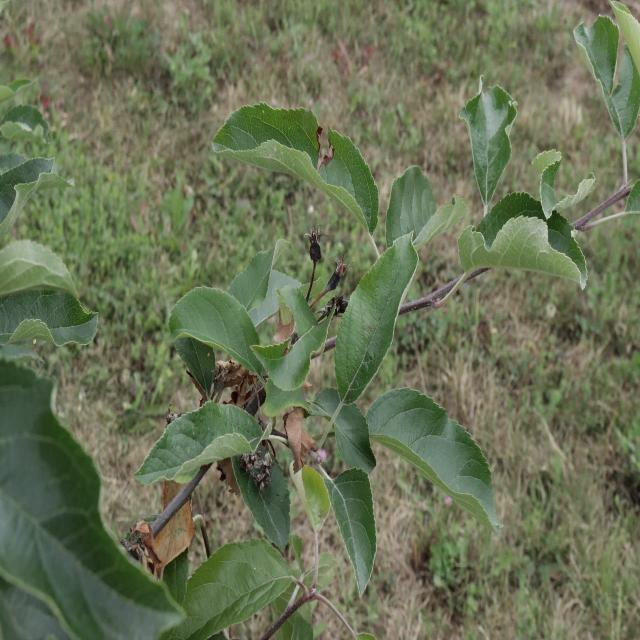-FireBlight-: (144, 472, 208, 564), (210, 344, 258, 408), (294, 390, 328, 464)
